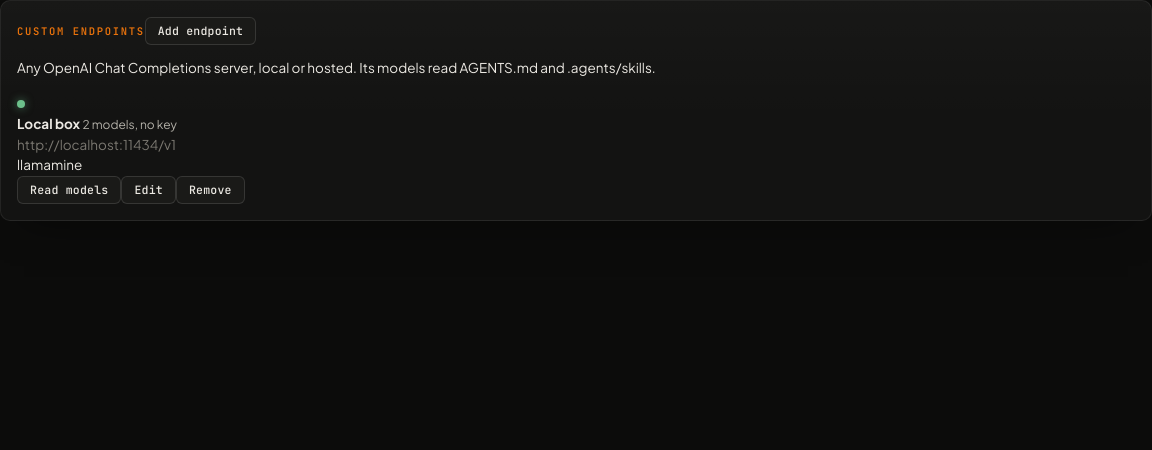
it: the custom endpoints card › shows what the agent refused
Click the button "Edit". click: (149, 190)
box: [121, 176, 176, 204]
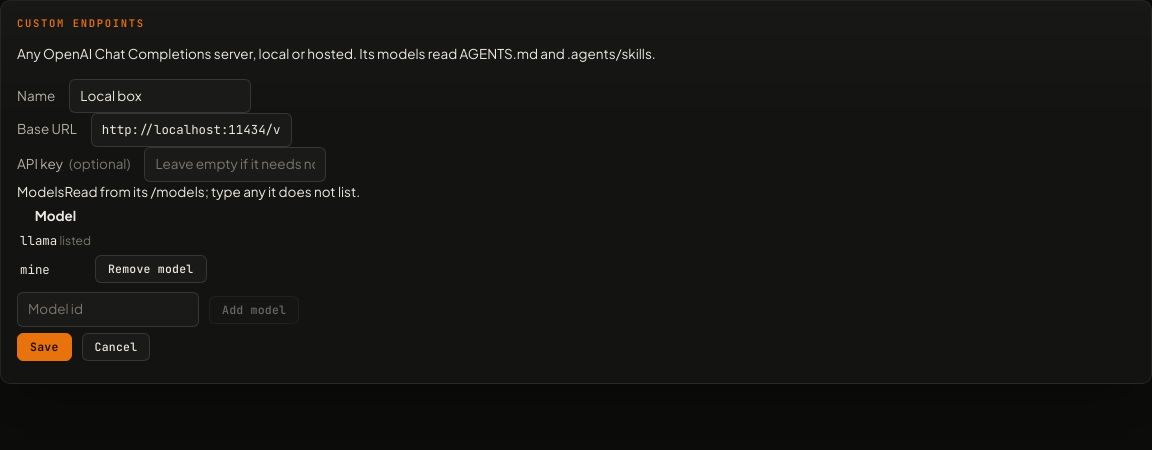
Type "box" into the field labelled "Base URL". click: (191, 130)
box: [91, 114, 292, 147]
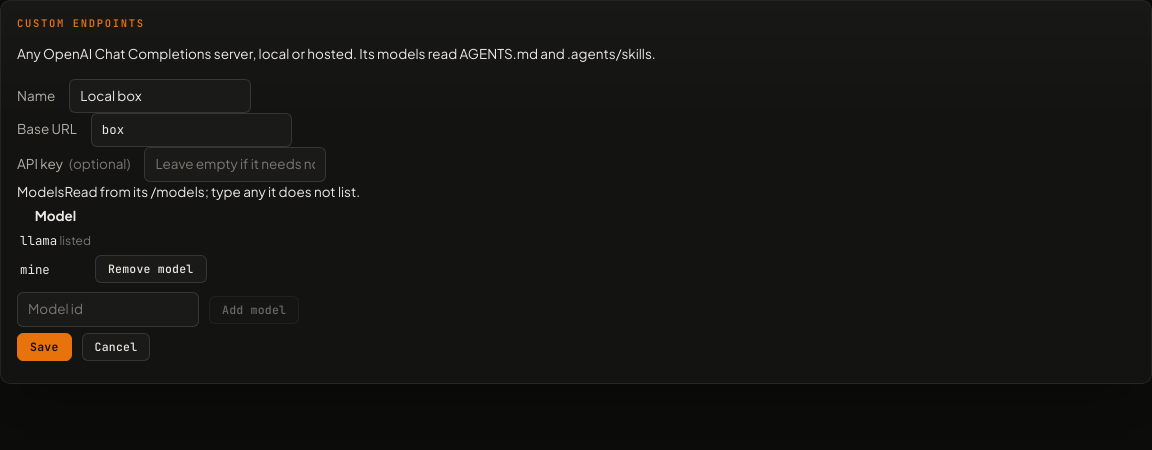
Click the button "Save". click: (44, 347)
box: [17, 333, 72, 361]
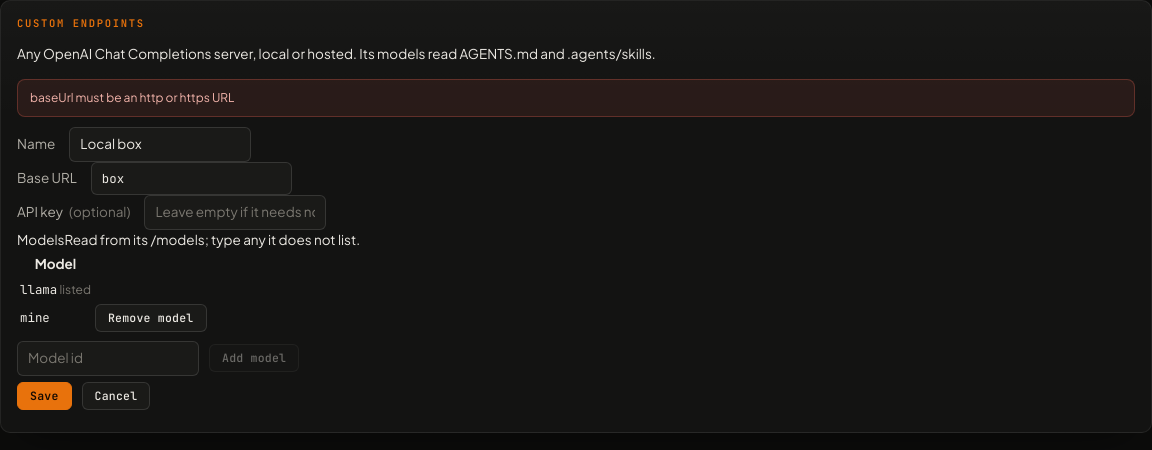
Expected: the message shows "http or https", [30, 90, 234, 105]
